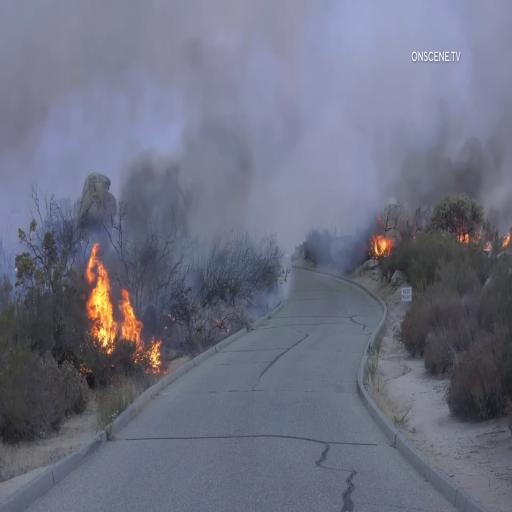fire: (85, 258, 154, 372), (360, 186, 402, 270)
smoke: (163, 18, 403, 198)
